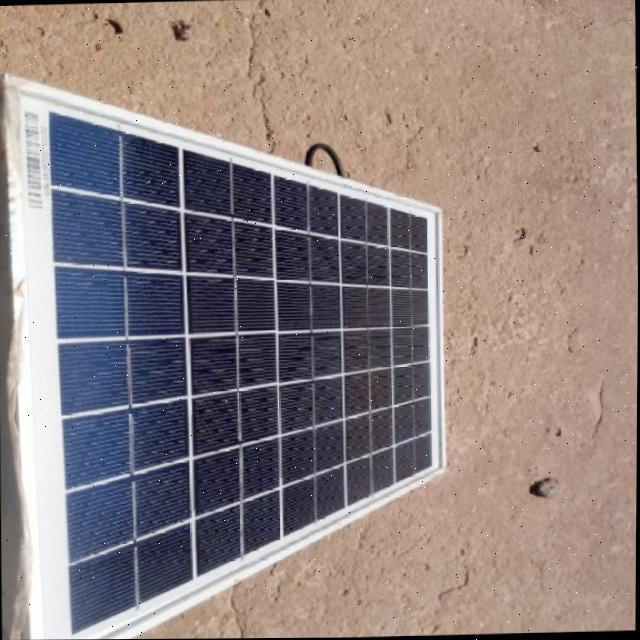Normal Solar Panel: (2, 66, 448, 640)
